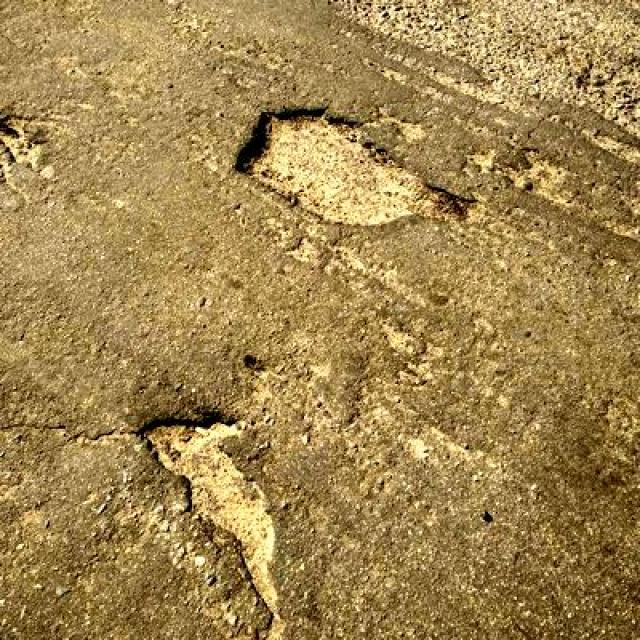pothole: (138, 413, 291, 638), (227, 100, 483, 234), (0, 112, 51, 182)
